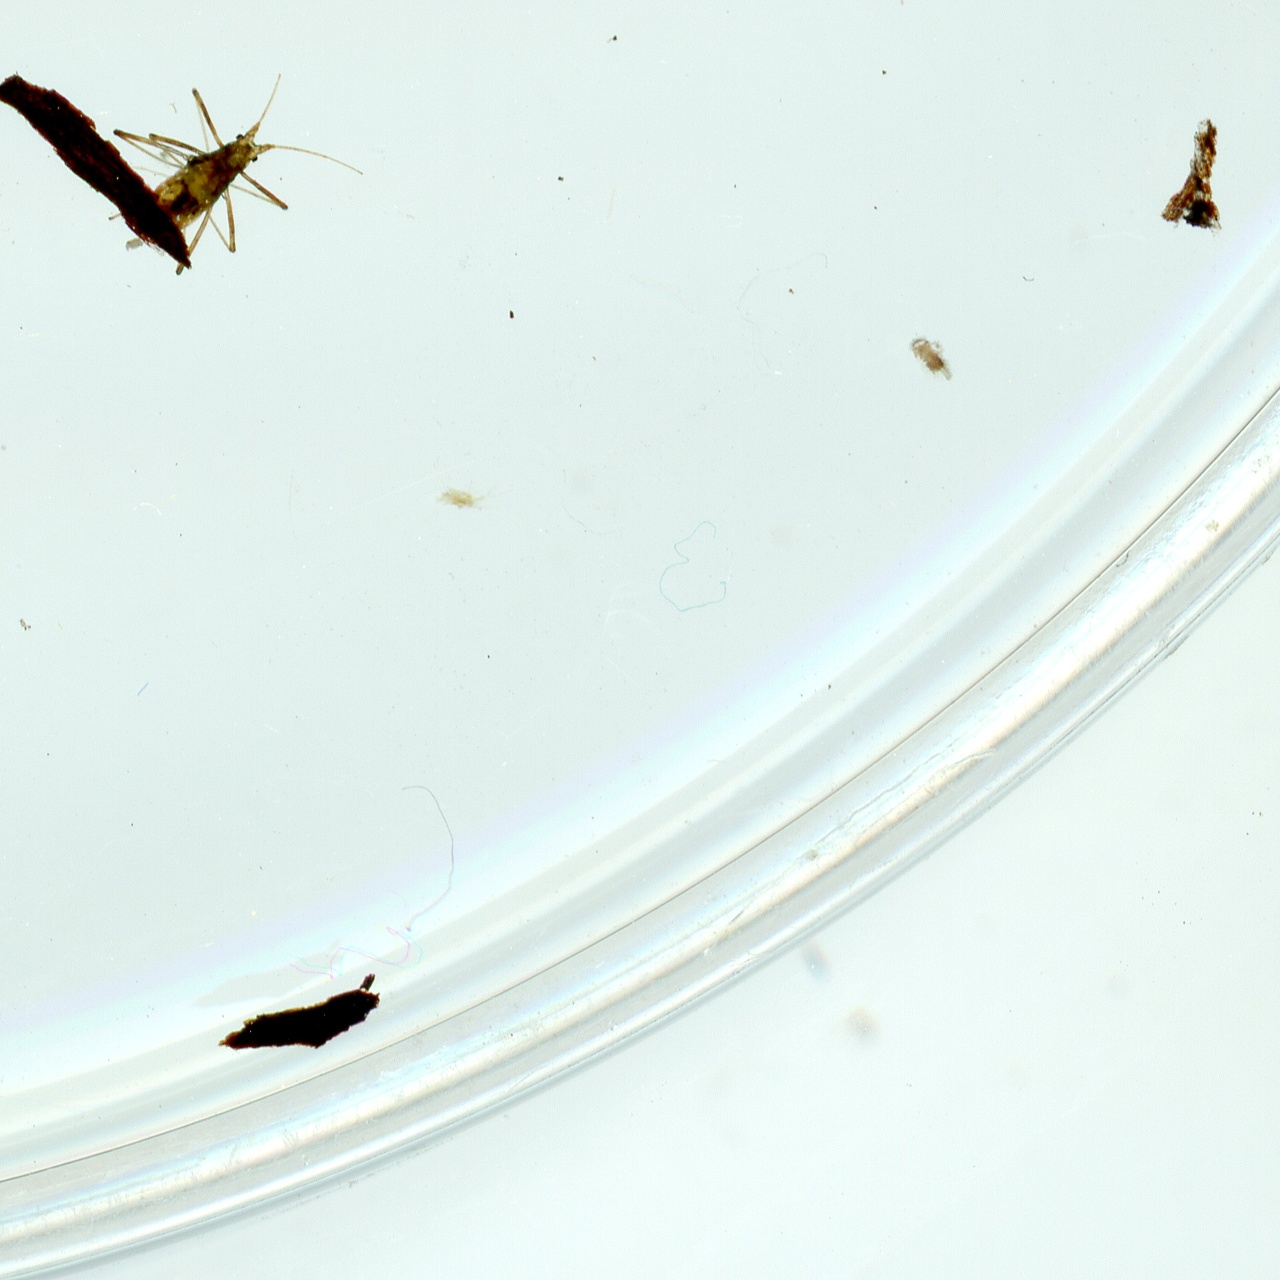arthropod: (53, 18, 377, 319), (0, 0, 268, 59), (904, 326, 964, 393)
